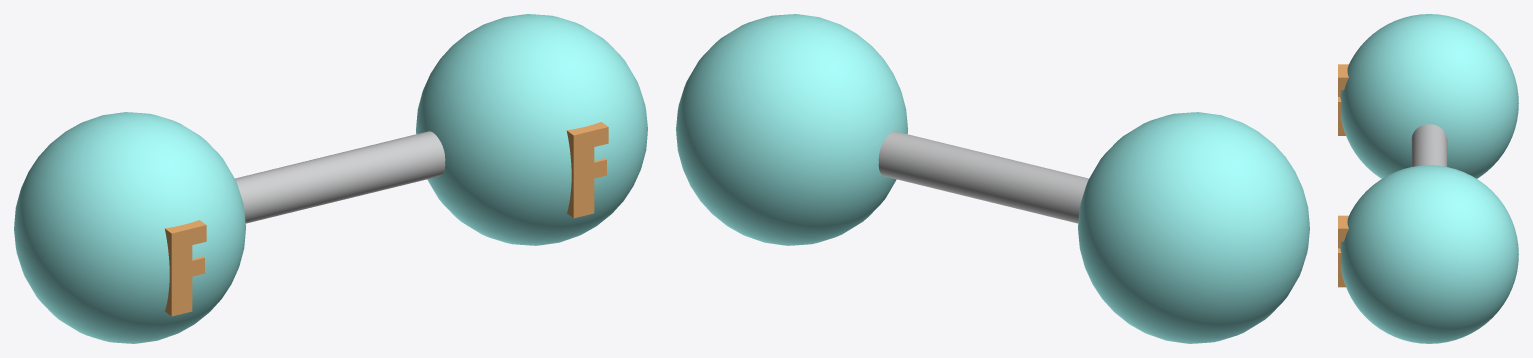
Rendered from asset.glb.
3 renders of one model, left to right at view 1: azimuth 30°, elevation 25°; view 2: azimuth 150°, elevation 25°; view 3: azimuth 270°, elevation 25°, orthographic. The views are drawn at different scales.
Visible parts, largest first — view 1: 3DGeom-1, 3DGeom-5, 3DGeom-2; view 2: 3DGeom-1, 3DGeom-5; view 3: 3DGeom-1, 3DGeom-5, 3DGeom-2.
Part boxes in pixels (x1,y1,x2,y2): 3DGeom-1: [14, 14, 647, 343]; 3DGeom-5: [235, 131, 445, 223]; 3DGeom-2: [164, 122, 608, 316]; 3DGeom-1: [676, 14, 1309, 343]; 3DGeom-5: [878, 131, 1088, 223]; 3DGeom-1: [1340, 14, 1518, 343]; 3DGeom-5: [1411, 124, 1447, 166]; 3DGeom-2: [1338, 64, 1348, 287].
Size of the model in its own units: 0.6 by 0.2 by 0.202.
